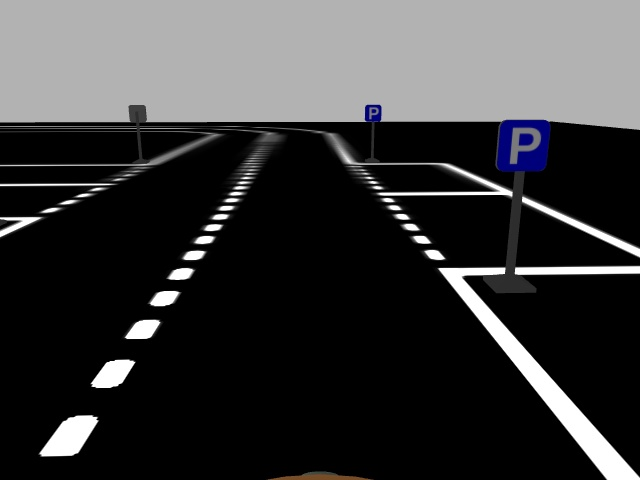parking: (495, 118, 550, 171), (363, 103, 382, 122)
